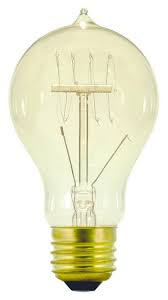bulb: (2, 7, 164, 262)
